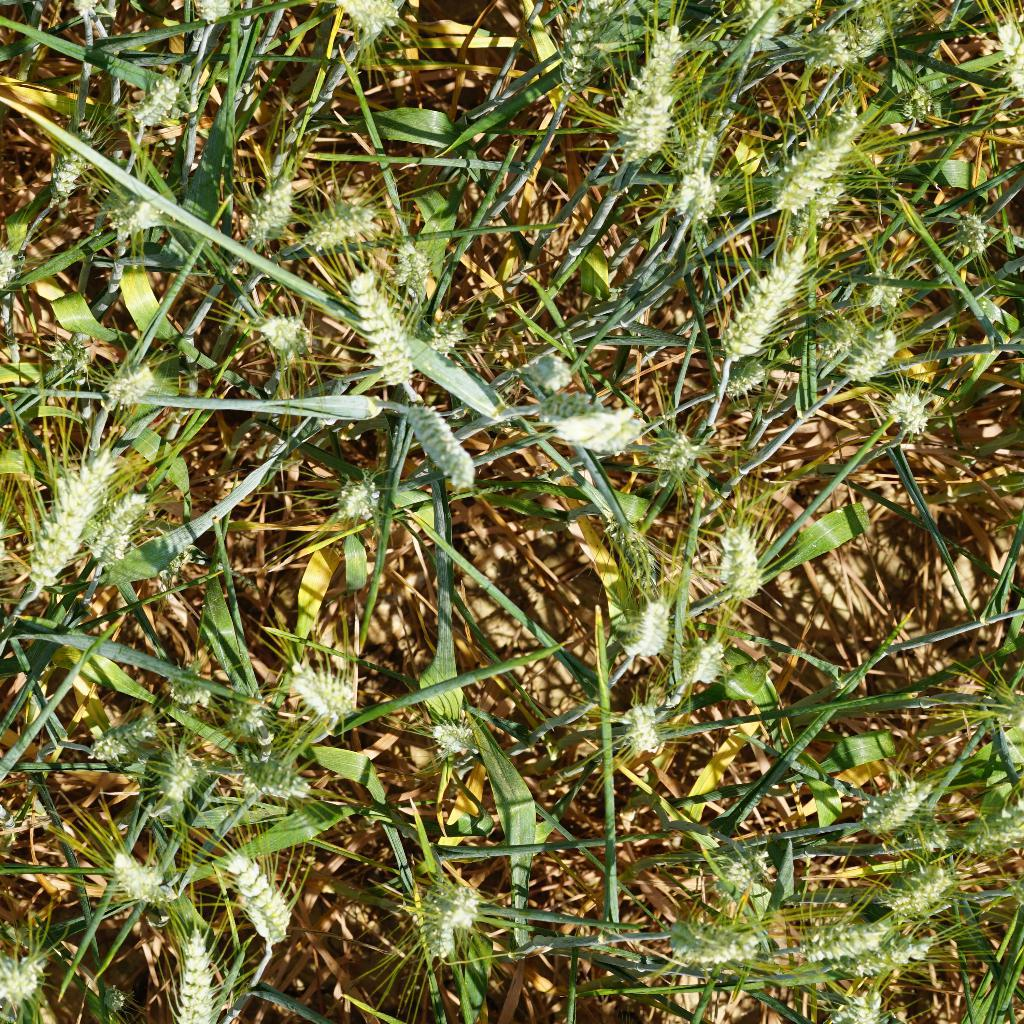0-0: (587, 18, 691, 166), (707, 238, 810, 363), (33, 460, 126, 594), (770, 100, 869, 217), (336, 261, 429, 384), (209, 841, 301, 948), (665, 912, 785, 978), (533, 387, 638, 459), (404, 396, 485, 489), (813, 298, 901, 382), (540, 0, 611, 97), (287, 183, 388, 251), (280, 653, 363, 733), (615, 691, 691, 778), (221, 157, 296, 242), (812, 4, 901, 74), (784, 899, 893, 956), (408, 866, 478, 953), (713, 504, 773, 605), (874, 838, 960, 907), (869, 754, 941, 836), (93, 496, 163, 578), (231, 751, 325, 811), (167, 937, 227, 1024), (240, 303, 316, 369), (107, 848, 180, 916), (326, 0, 415, 55), (88, 707, 163, 769), (97, 343, 174, 403), (609, 514, 673, 586), (948, 800, 1024, 859), (619, 591, 673, 672), (886, 377, 946, 448), (736, 1, 813, 56), (220, 681, 284, 747), (133, 74, 197, 139), (425, 709, 493, 770), (666, 150, 718, 227), (409, 310, 484, 363), (104, 186, 178, 238), (714, 836, 785, 890), (153, 751, 210, 815), (0, 948, 59, 1009), (379, 233, 432, 298), (48, 124, 94, 197), (848, 941, 931, 980), (677, 631, 732, 684), (523, 336, 571, 396), (152, 662, 213, 709), (332, 466, 382, 523), (39, 335, 94, 386), (867, 260, 912, 320), (656, 425, 702, 482), (934, 206, 987, 254), (744, 65, 790, 106)
